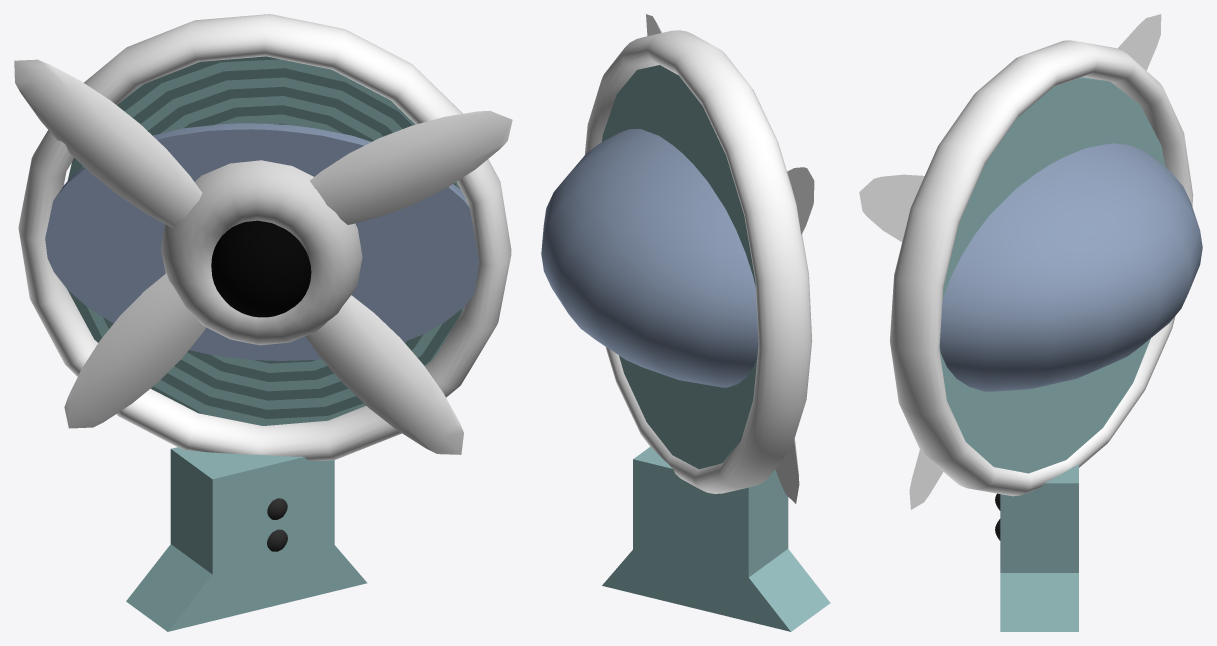
Rendered from Ventilator_Animated_Blender.fbx.
The picture shows the model from 3 angles, left to right: view 1: azimuth 30°, elevation 25°; view 2: azimuth 150°, elevation 25°; view 3: azimuth 270°, elevation 25°; orthographic projection. The views are drawn at different scales.
Visible parts, largest first — view 1: pTorus2, RotorBlaetter, pCube1; view 2: pTorus2, pCube1, RotorBlaetter; view 3: pTorus2, pCube1, RotorBlaetter.
Part boxes in pixels (x1,y1,x2,y2): pTorus2: (18, 14, 511, 460); RotorBlaetter: (14, 59, 512, 454); pCube1: (126, 447, 367, 631); pTorus2: (541, 30, 812, 493); pCube1: (602, 446, 830, 631); RotorBlaetter: (646, 14, 814, 503); pTorus2: (890, 40, 1202, 496); pCube1: (1000, 464, 1078, 631); RotorBlaetter: (859, 14, 1161, 509).
Size of the model in its own units: 1.84 by 2.73 by 1.58.
